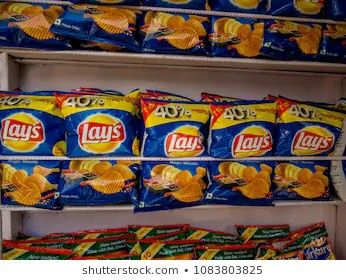lays-small: (61, 88, 139, 208), (139, 99, 214, 213), (210, 100, 276, 210), (1, 95, 64, 210), (276, 102, 341, 205)
